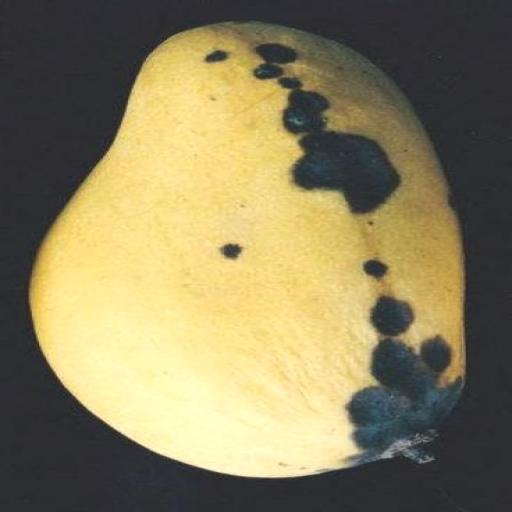mango-overripe: (4, 16, 489, 477)
